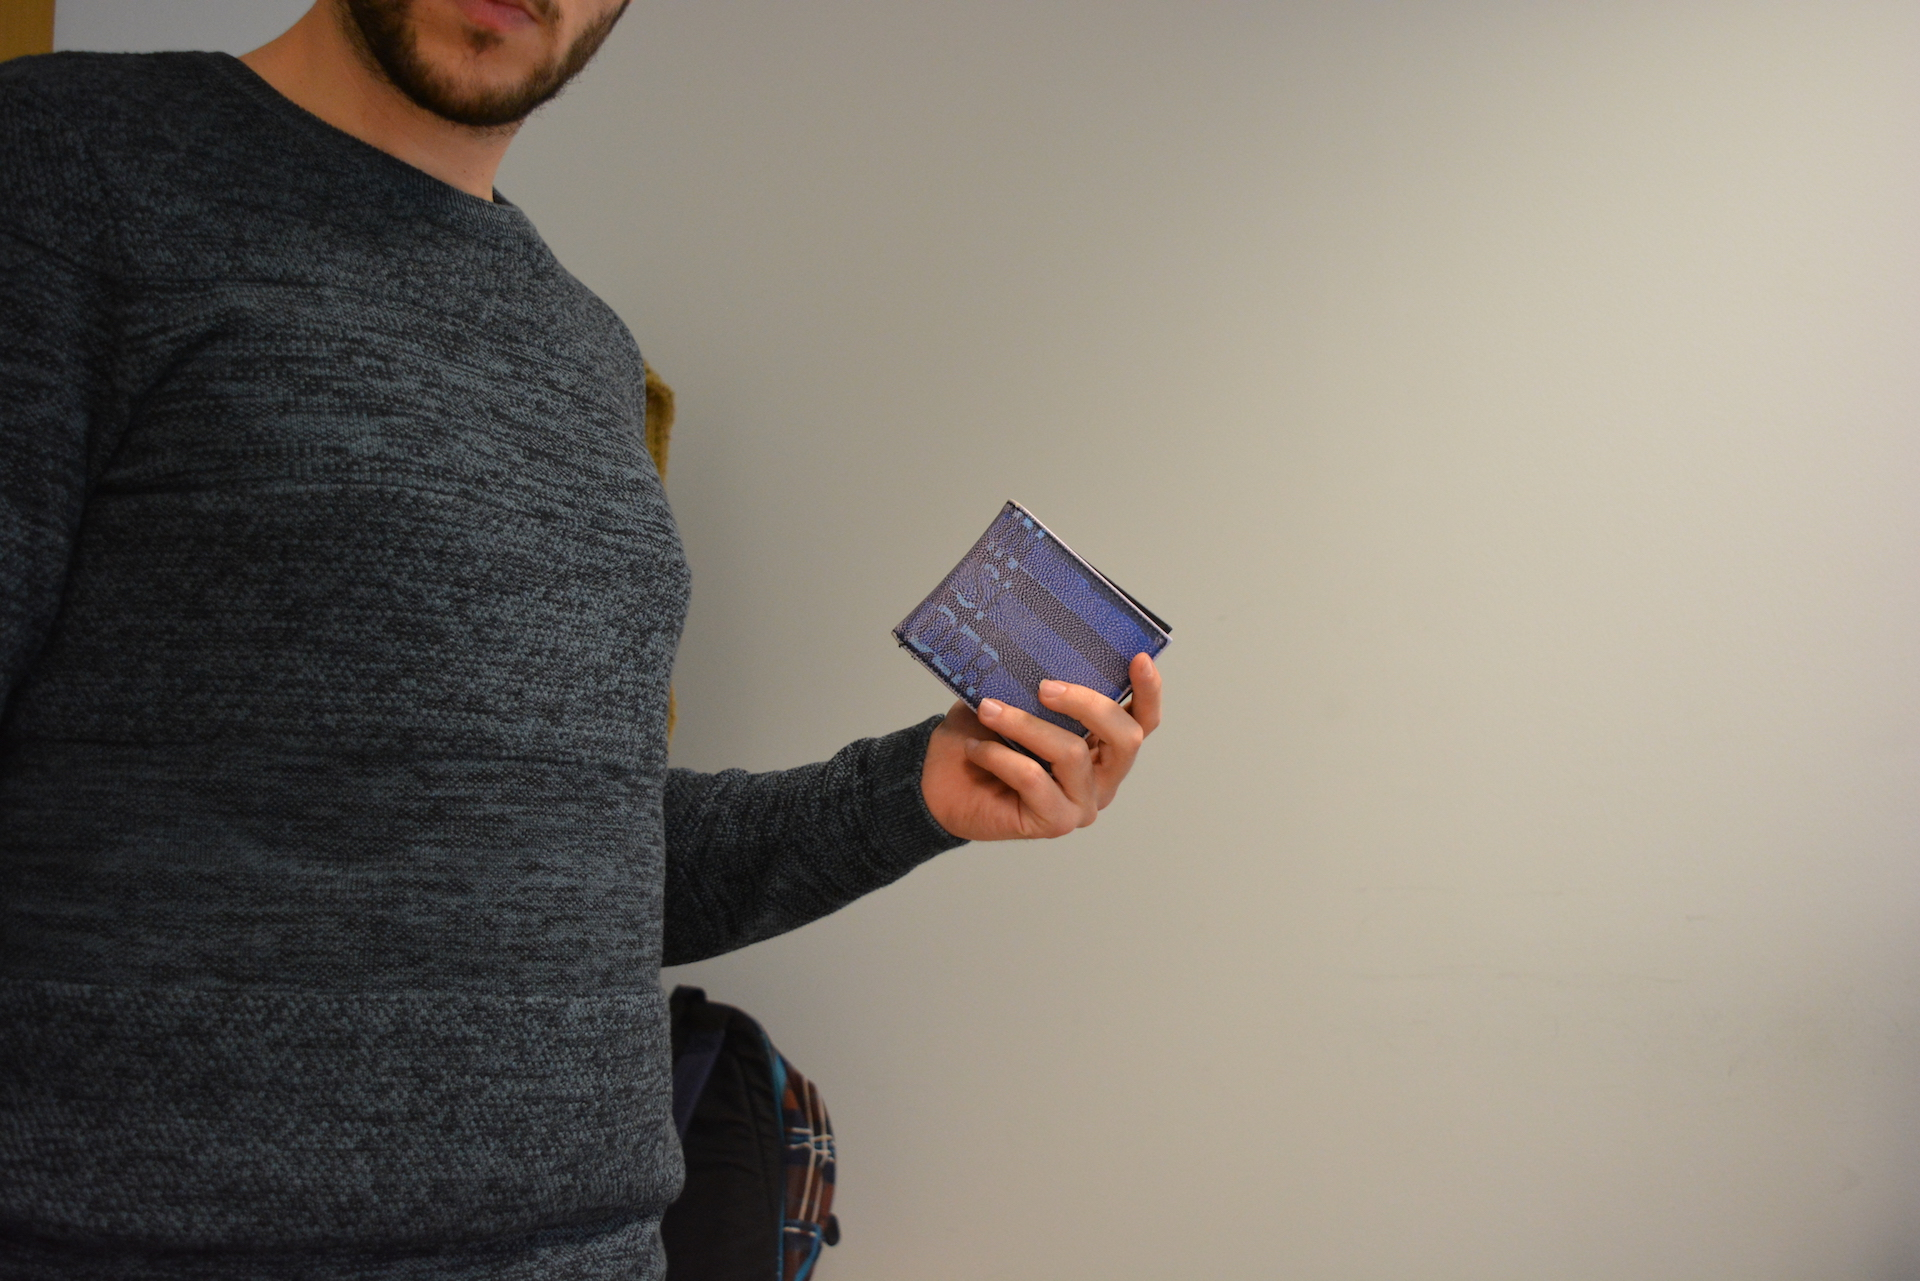monedero: (889, 498, 1177, 779)
